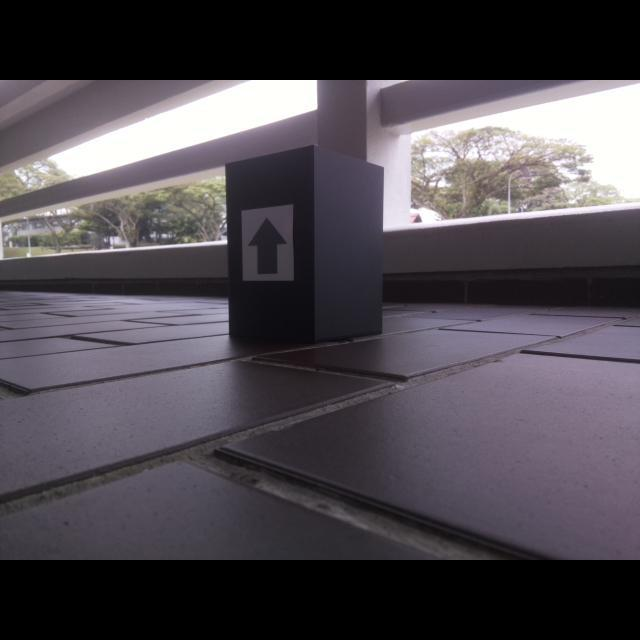UP: (247, 216, 290, 276)
